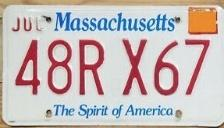4: (13, 37, 43, 98)
6: (152, 38, 182, 96)
7: (179, 38, 212, 97)
8: (45, 37, 75, 95)
R: (77, 37, 108, 98)
X: (118, 37, 151, 97)
